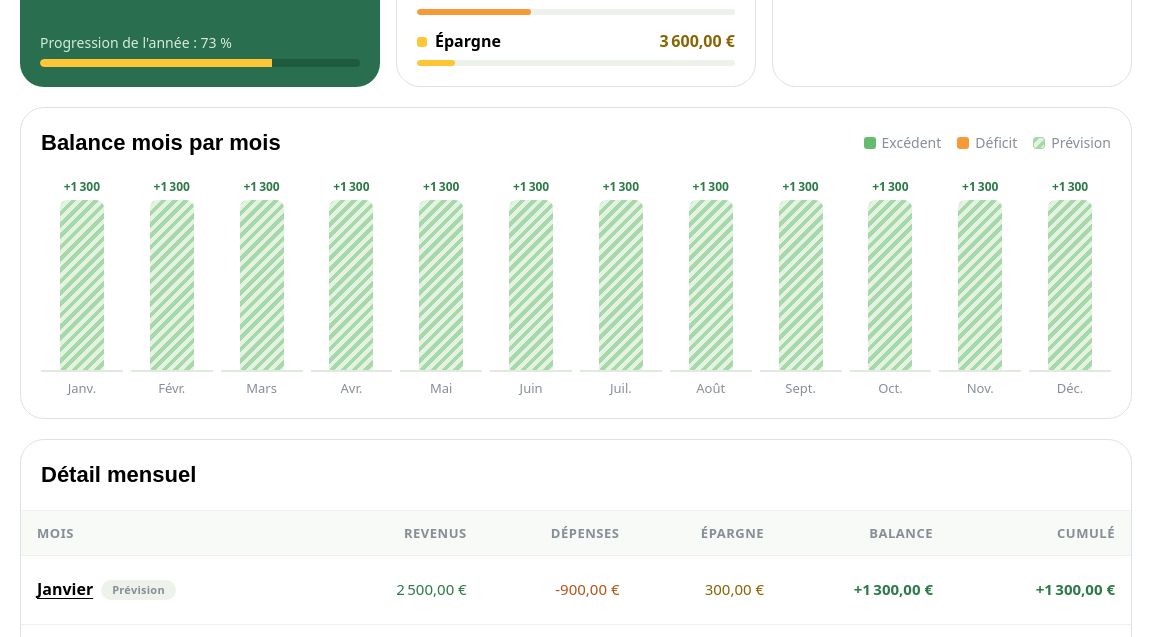
SummaryPage month breakdown › opens the month from a chart column
The image size is (1152, 637).
(page scrolled)
Click the button with aria-label "Détail de mars 2027".
click(262, 288)  # box [221,178,302,398]
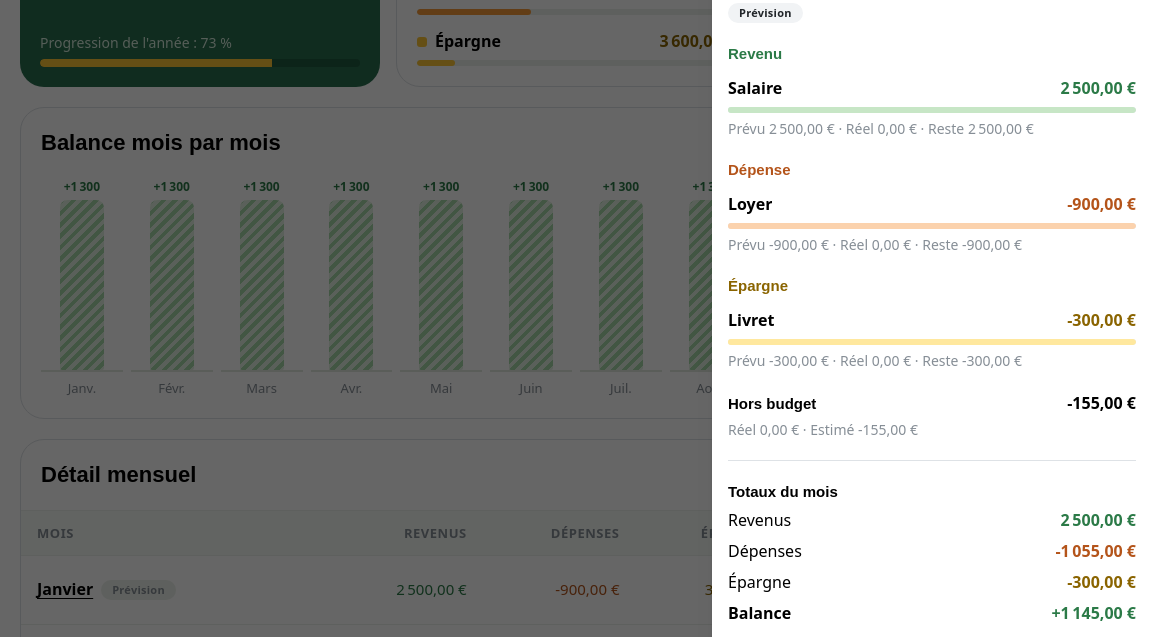
Expected: the text "Salaire" is shown, [728,76,782,101]
